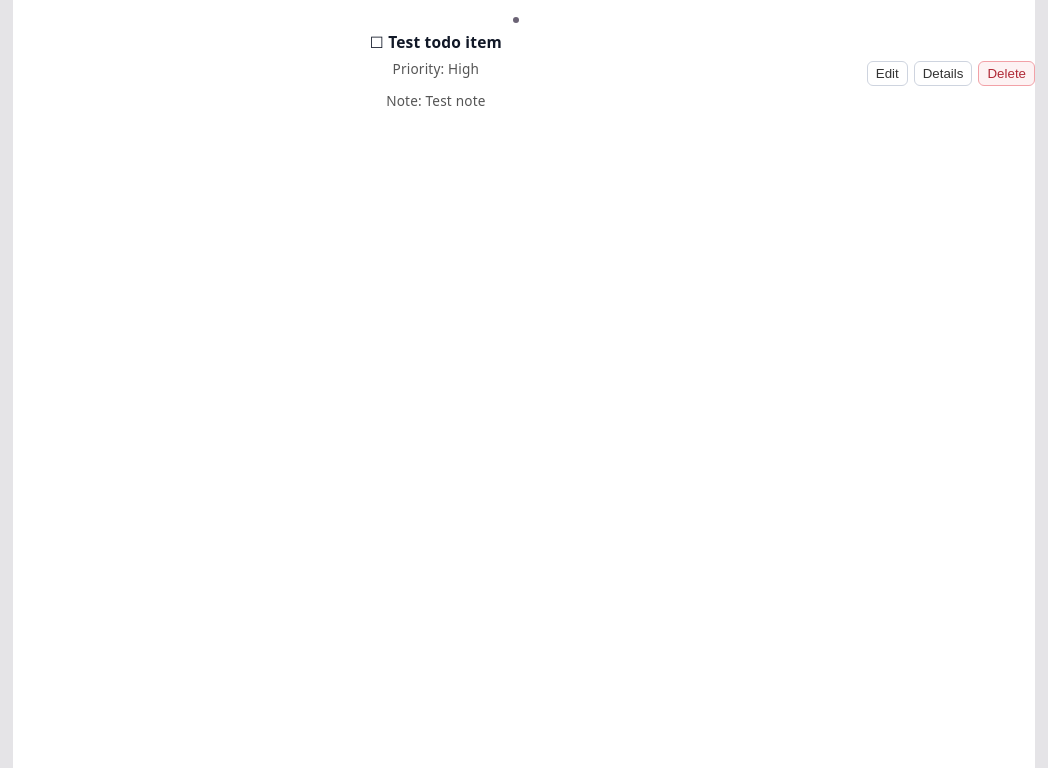
Test: TodoItemRow › cancels details form
Click the button "Details".
click(943, 74)  # box x1=914 y1=61 x2=972 y2=86
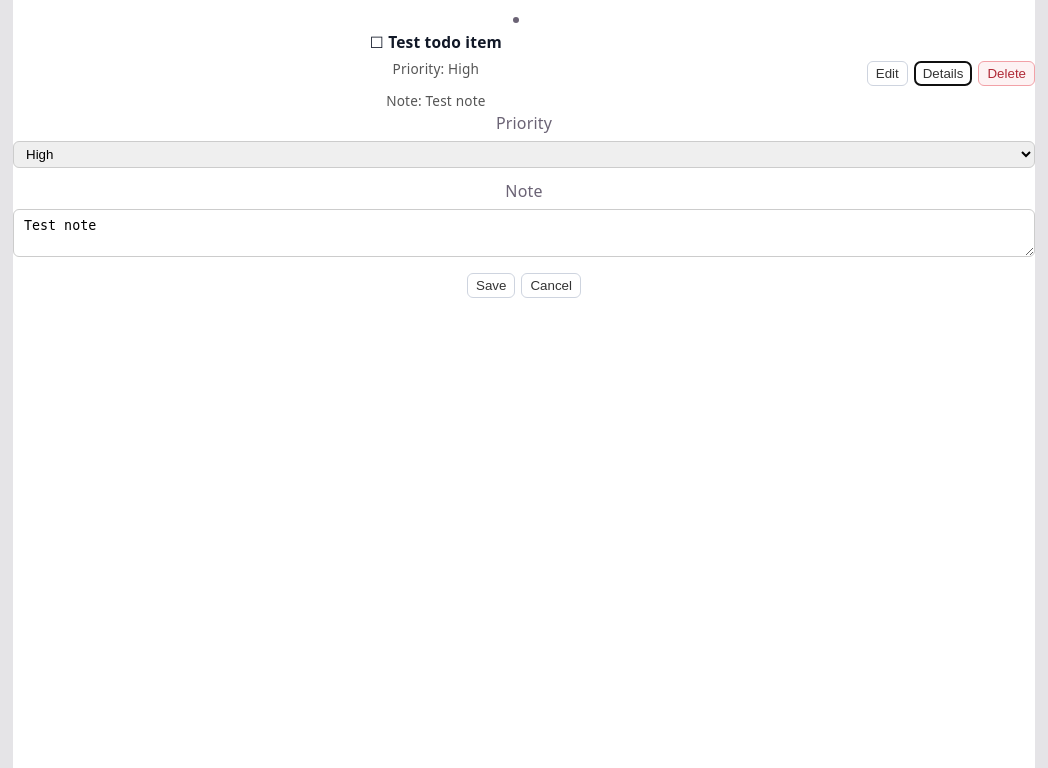
Check: the text box with placeholder "Optional note" is shown, box x1=13 y1=209 x2=1035 y2=257
Click the button "Cancel".
click(551, 286)  # box x1=521 y1=273 x2=581 y2=298
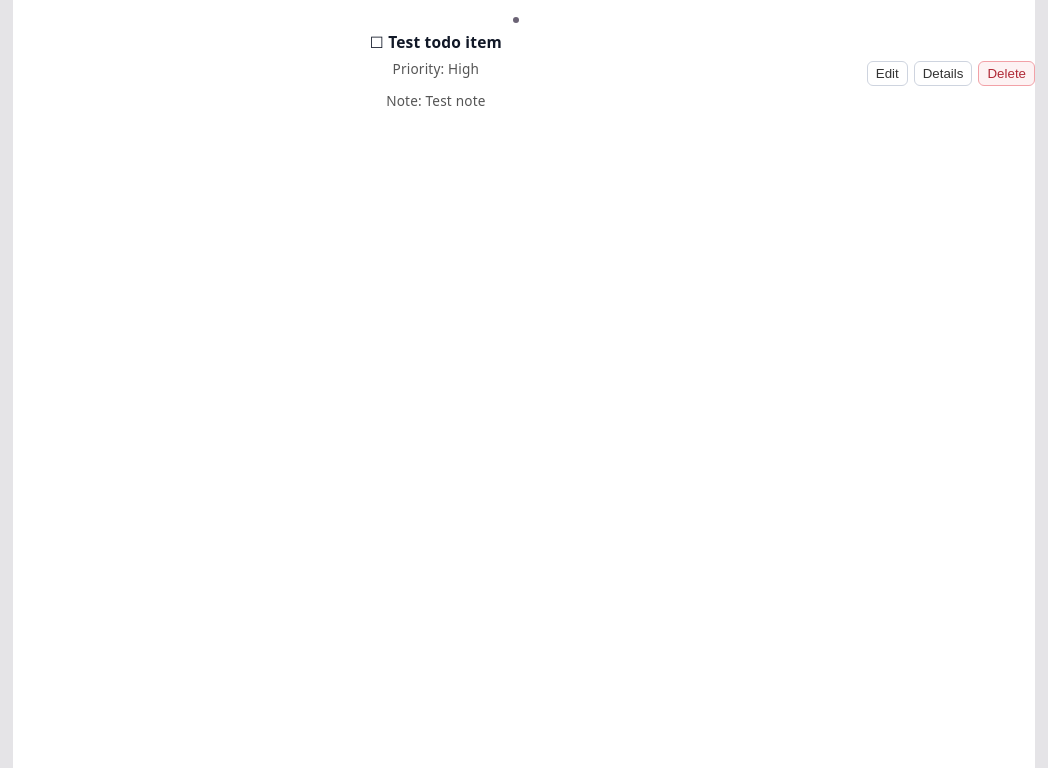
Check: the text box with placeholder "optional note" is gone
